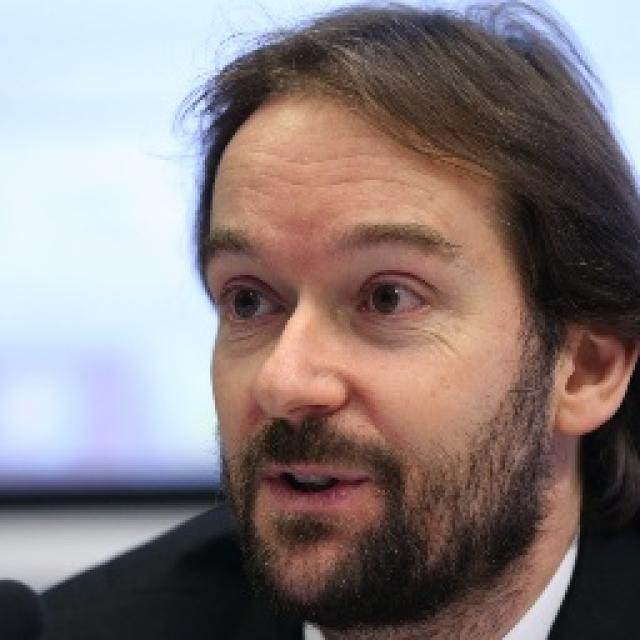earlobe: (553, 392, 592, 437)
eye: (220, 280, 281, 322), (357, 280, 427, 315)
nose: (246, 391, 347, 463)
wholeear: (552, 282, 640, 438)
